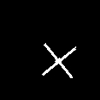single_crochet: (42, 43, 75, 77)
